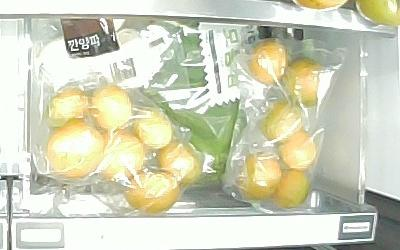tangerine_vinyl: (46, 120, 102, 181), (122, 169, 181, 214), (235, 149, 282, 202), (284, 56, 329, 110), (99, 134, 144, 182), (88, 86, 133, 133), (155, 142, 201, 185), (246, 39, 289, 85), (259, 100, 303, 140), (46, 85, 88, 126), (278, 128, 318, 170), (134, 107, 172, 150), (274, 169, 313, 210)
